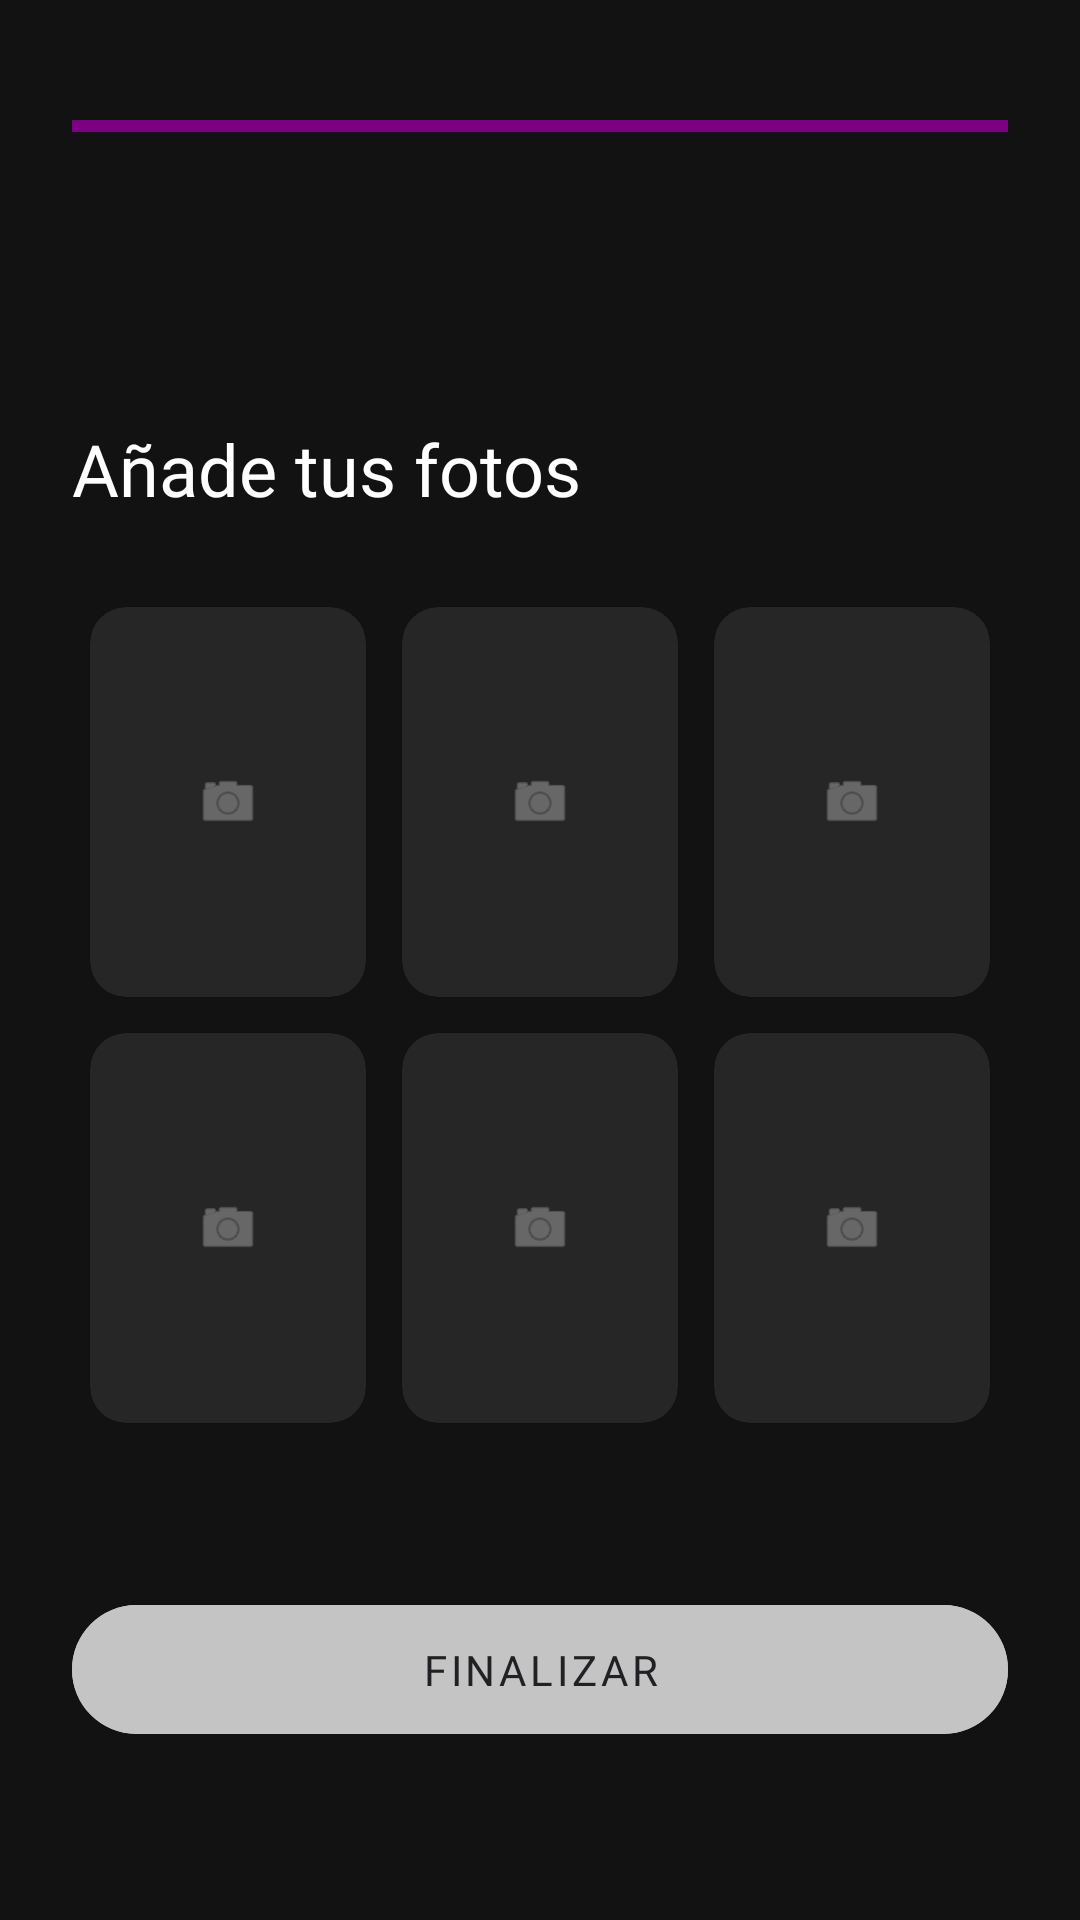

Point at icon controls on the screen. Image size 1080px×1920px, points as (x,y).
camera: (228,801), (540,801), (852,801), (228,1227), (540,1227), (852,1227)
